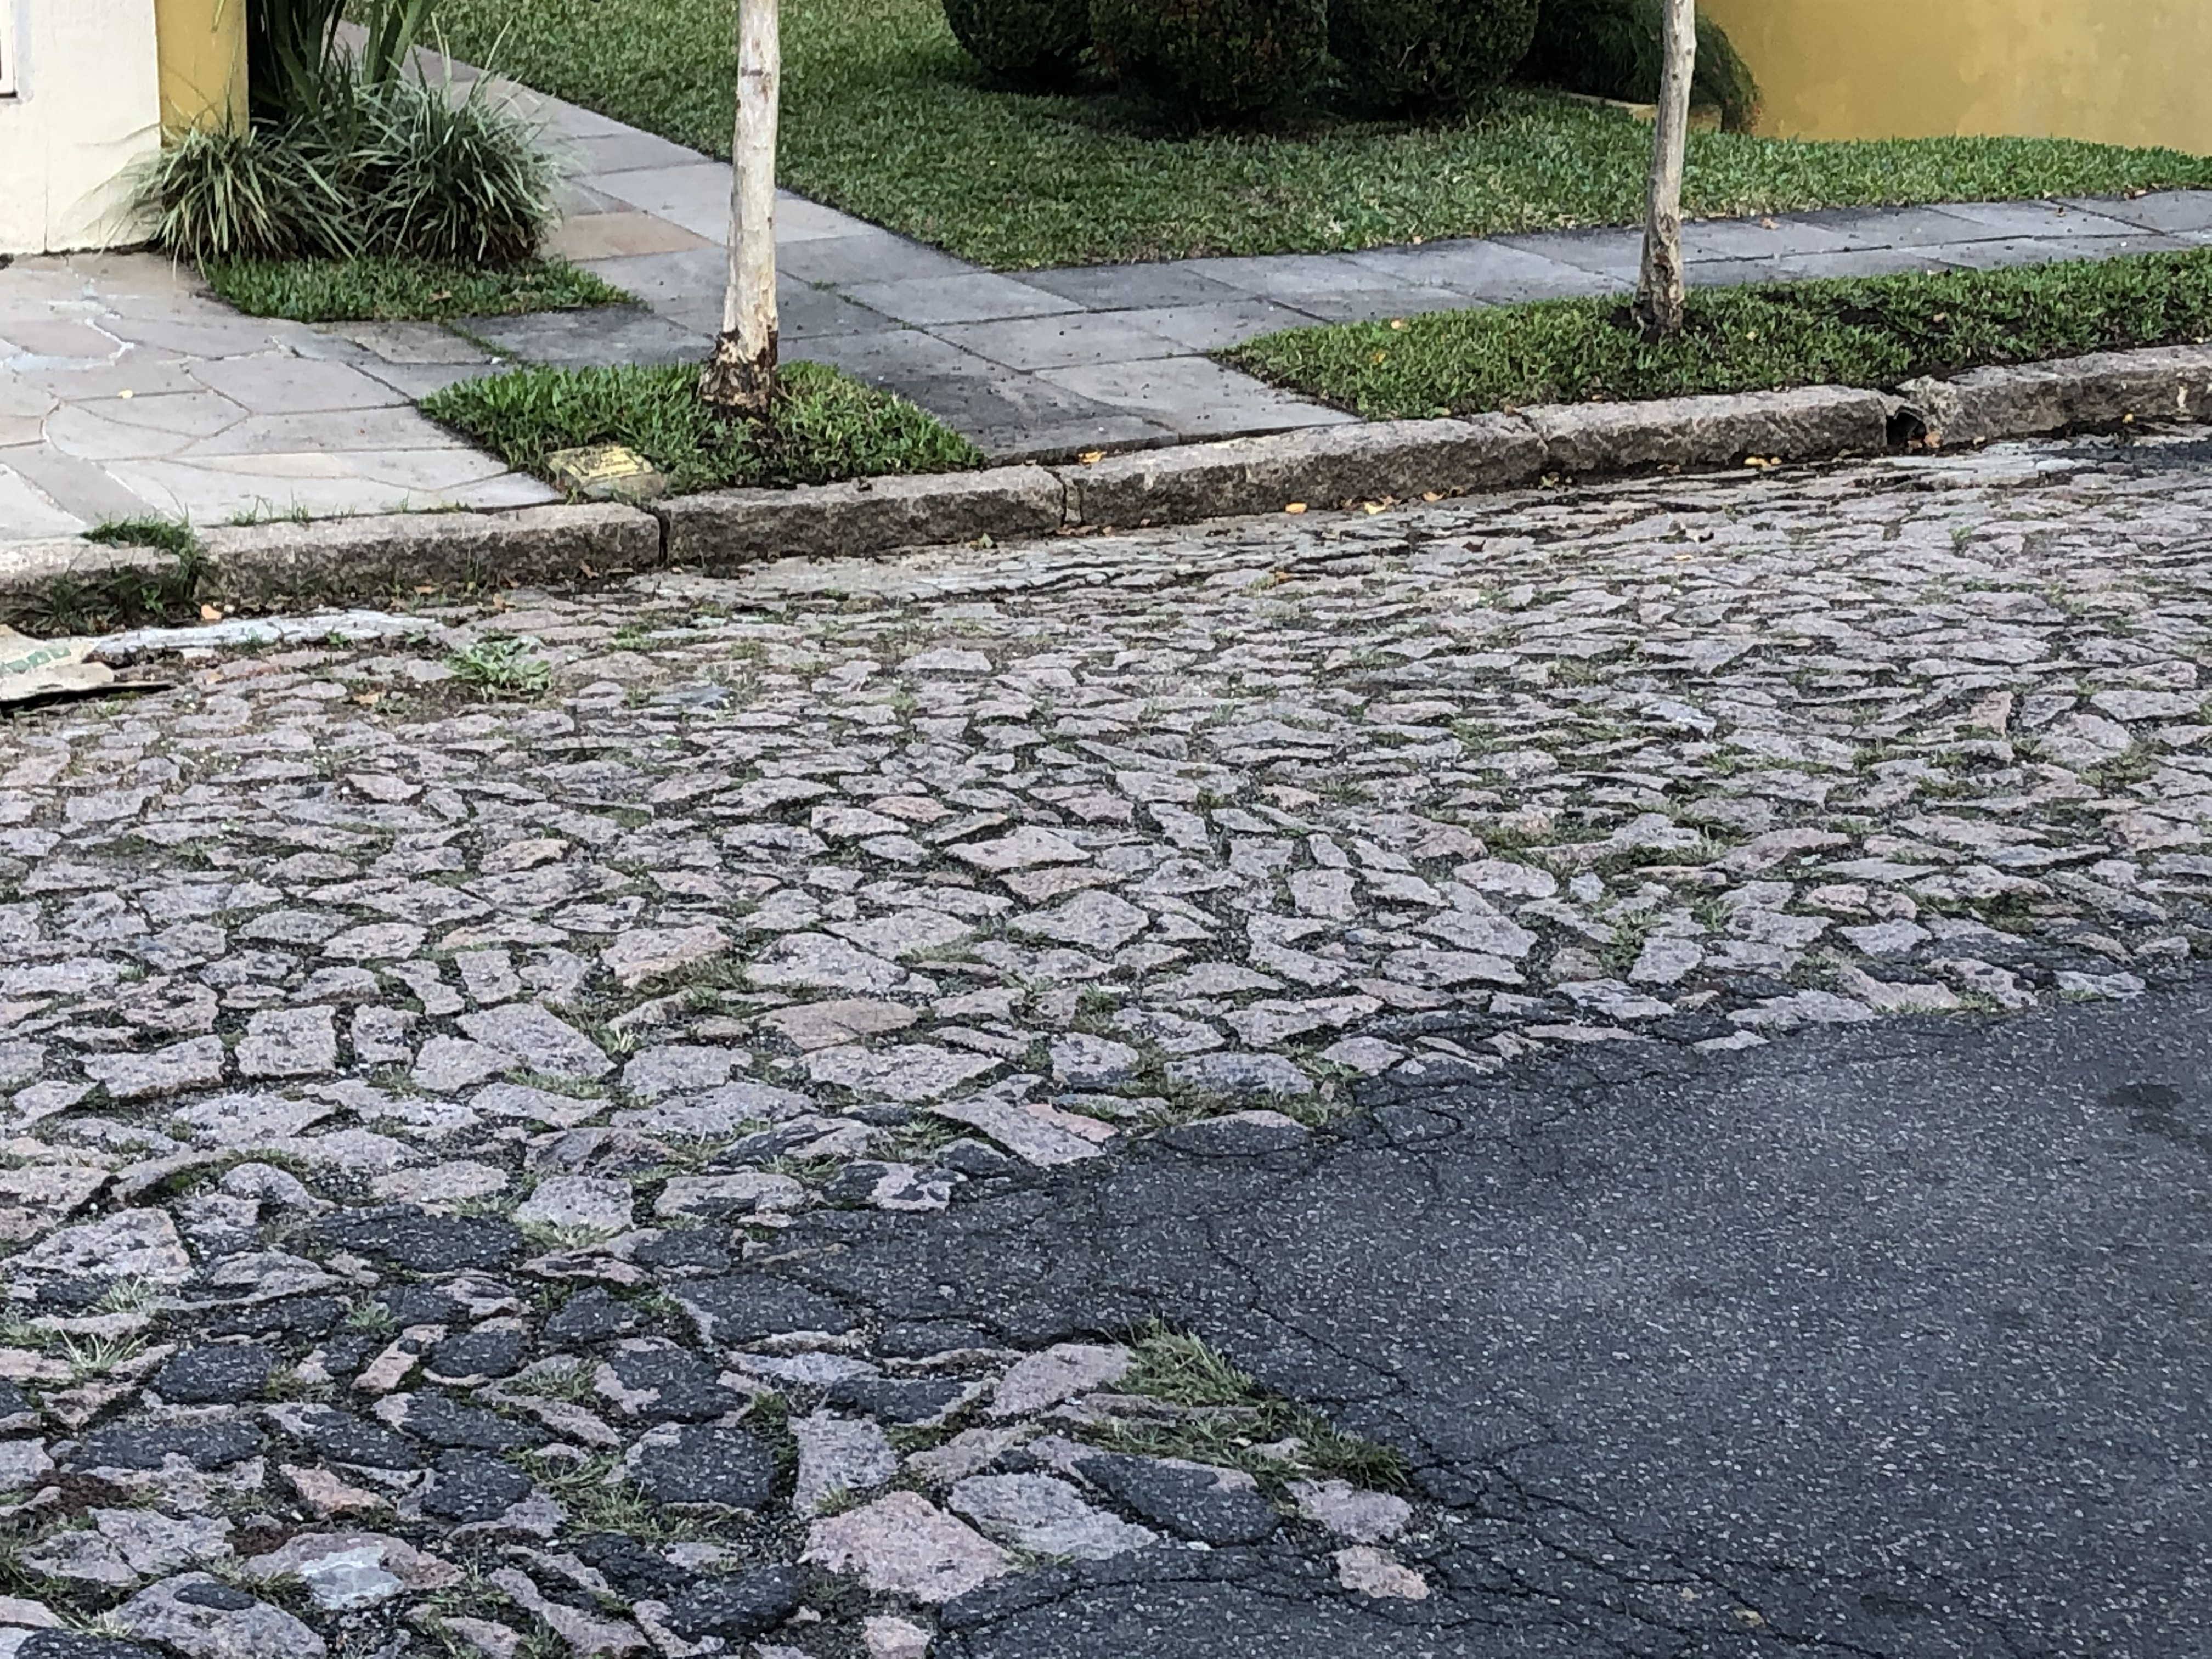vag82: (49, 240, 2212, 690)
